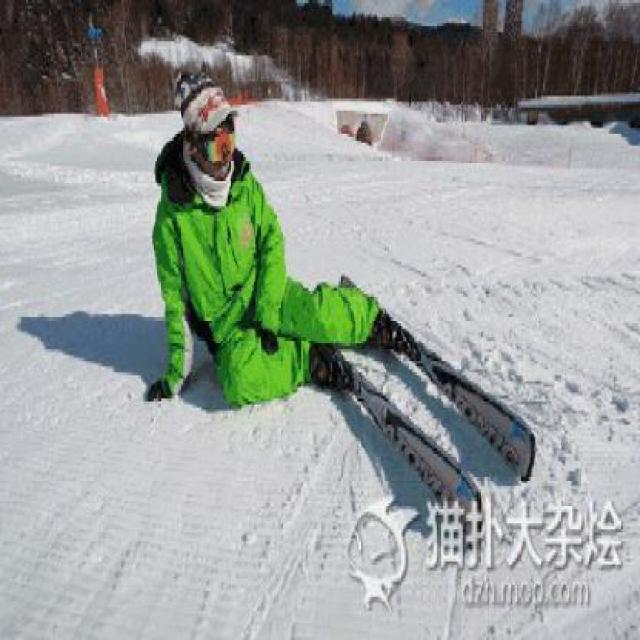fall: (124, 59, 396, 418)
